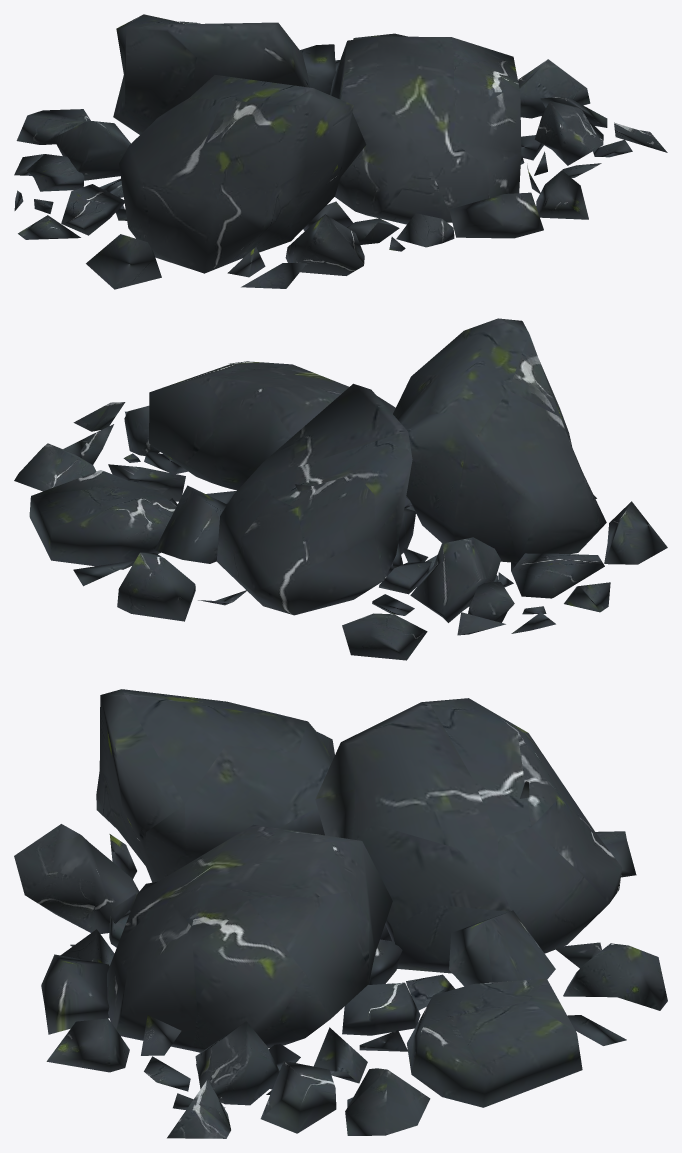
File: shore_rocks.glb
3 views of the same model, one above another, from view 1: azimuth 30°, elevation 25°; view 2: azimuth 150°, elevation 25°; view 3: azimuth 270°, elevation 25° (orthographic). The views are drawn at different scales.
Bounding box in the file's own units: 5.98 × 1.69 × 4.64.
Materials: 1 (1 with a texture image).
